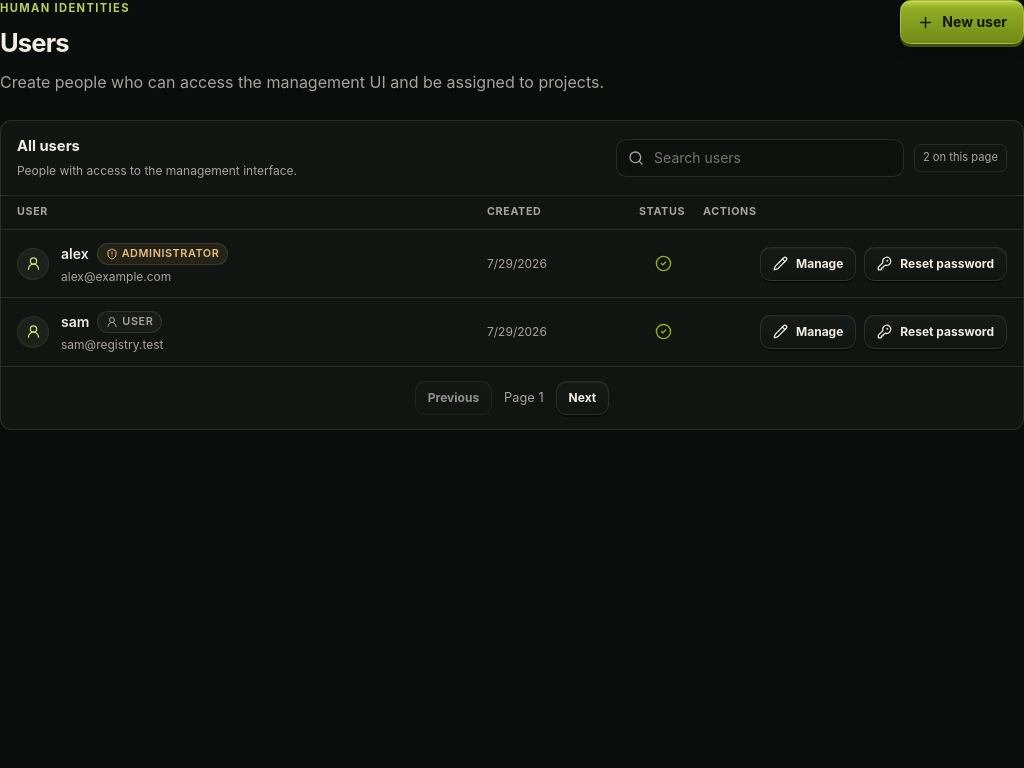
Test: UsersPage › shows disable errors from the API
Click the button with aria-label "Manage user sam": (808, 332) [760,315,856,349]
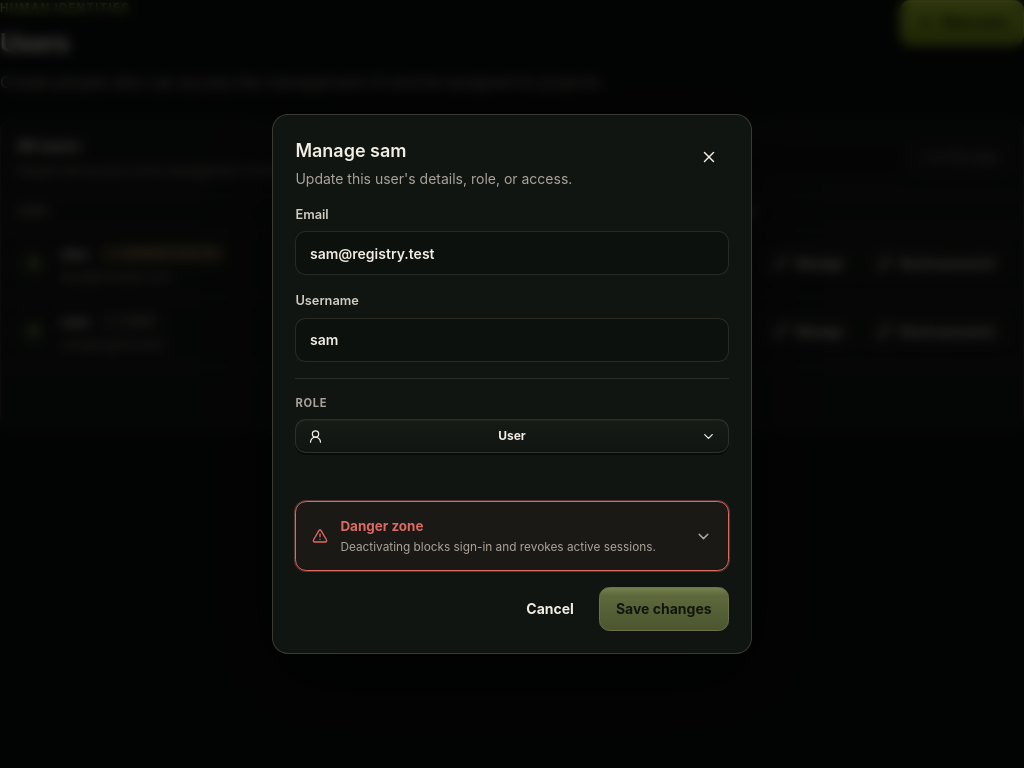
Click the button with class "danger-zone-trigger": (382, 526) [296,502,728,570]
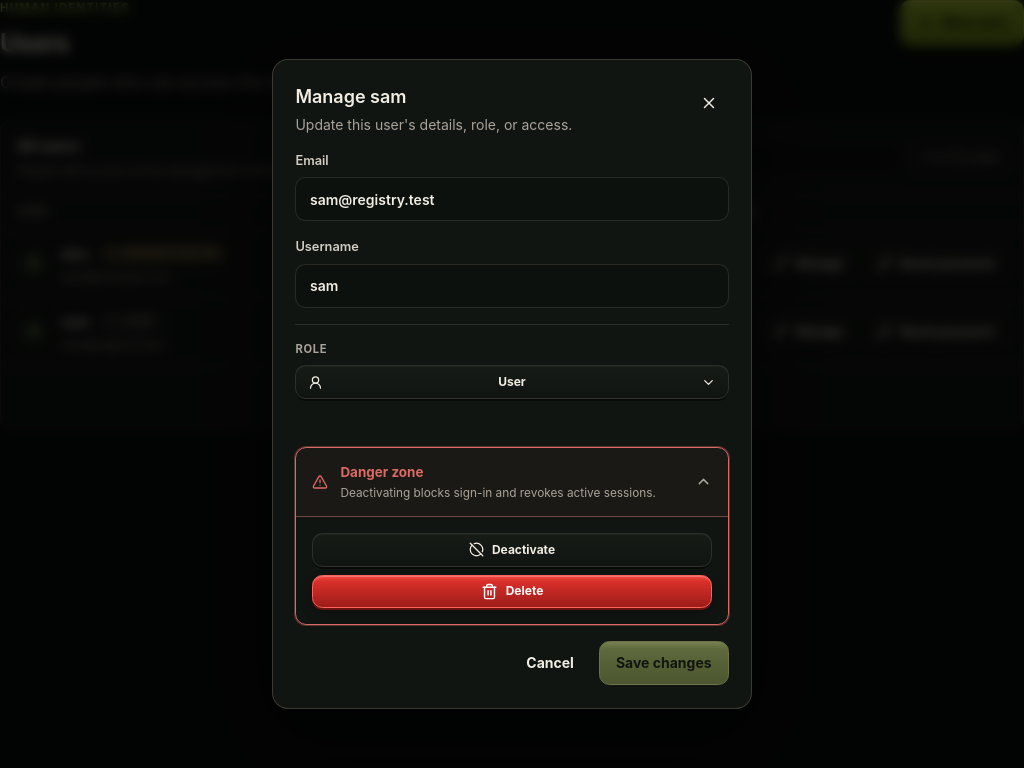
Click the button with aria-label "Disable user sam": (512, 591) [312,575,712,608]
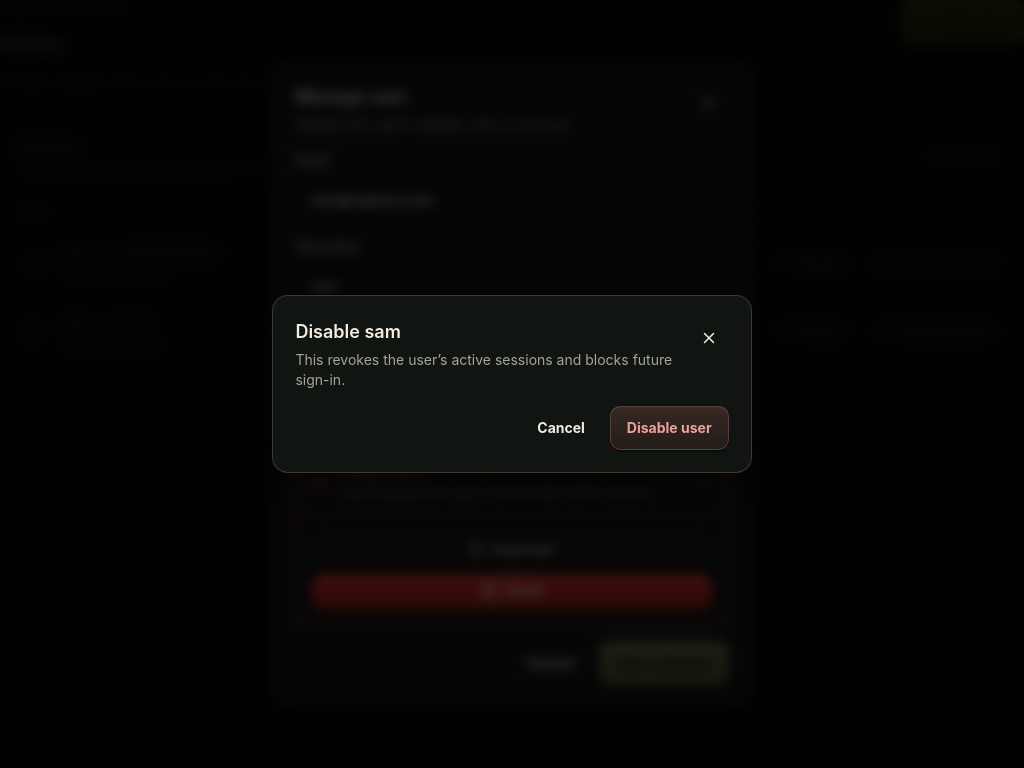
Submit the form, box [272,295,752,473]
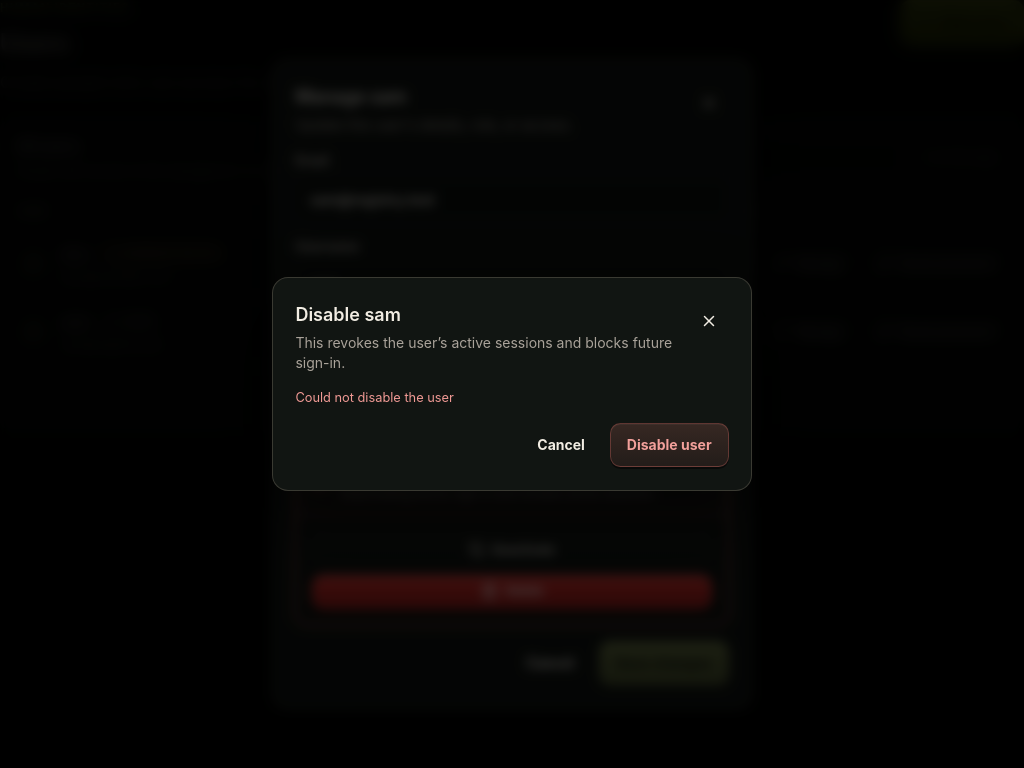
Expected: the message "Could not disable the user" is shown, [295,390,454,405]
